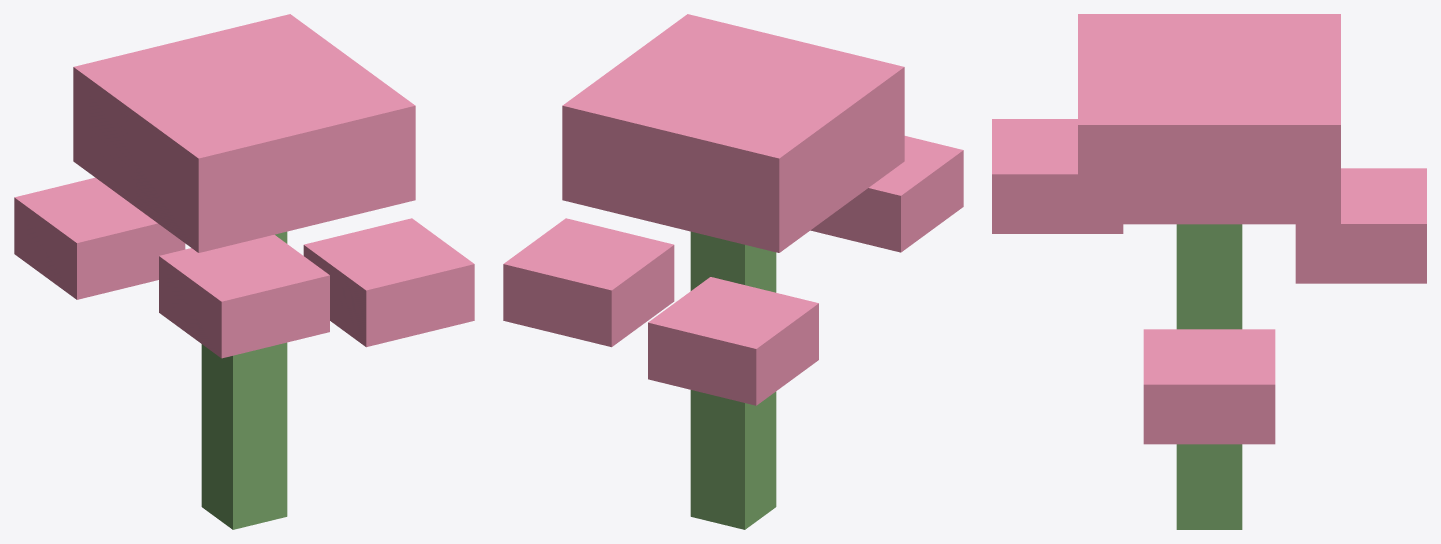
File: Prop_DS_Herb_ZipVine_S2.glb
3 views of the same model, side by side, from view 1: azimuth 30°, elevation 25°; view 2: azimuth 150°, elevation 25°; view 3: azimuth 270°, elevation 25° (orthographic). The views are drawn at different scales.
Parts seen in each view (by area): view 1: Prop_DS_Herb_ZipVine_S2; view 2: Prop_DS_Herb_ZipVine_S2; view 3: Prop_DS_Herb_ZipVine_S2.
Boxes of the visible parts, bbox=[...] form: Prop_DS_Herb_ZipVine_S2: bbox=[14, 14, 474, 529]; Prop_DS_Herb_ZipVine_S2: bbox=[503, 14, 963, 529]; Prop_DS_Herb_ZipVine_S2: bbox=[992, 14, 1426, 529].
Size of the model in its own units: 0.36 by 0.45 by 0.3971.
